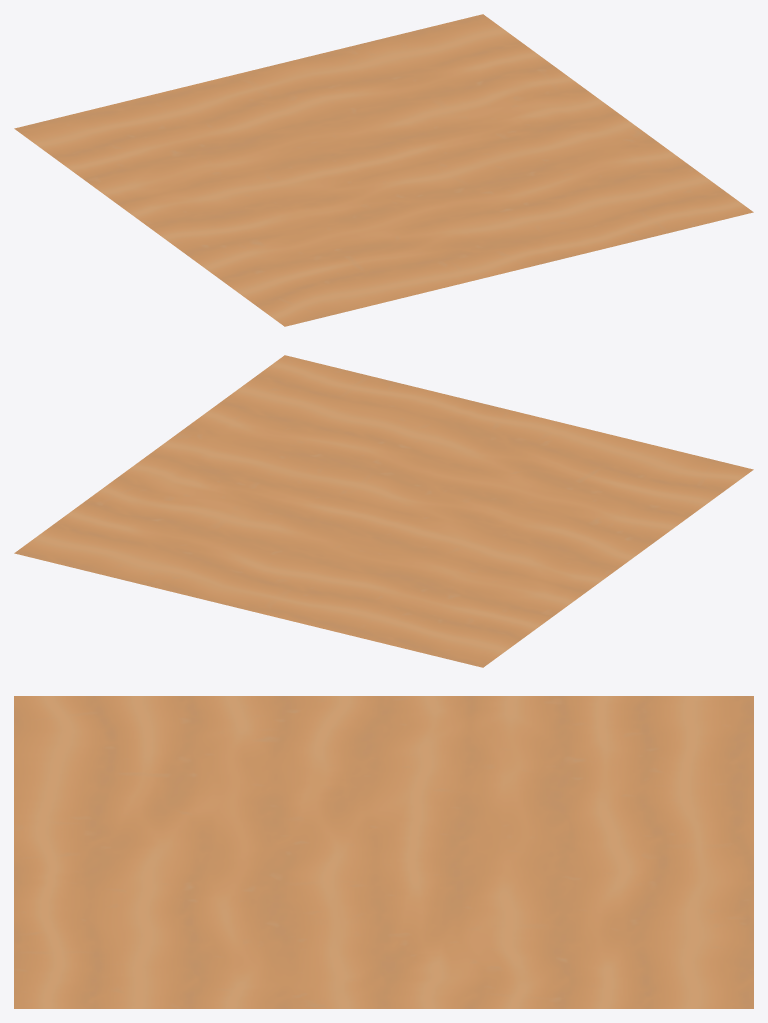
File: Floor.glb
3 renders of one model, top to bottom at view 1: azimuth 30°, elevation 25°; view 2: azimuth 150°, elevation 25°; view 3: azimuth 270°, elevation 25°, orthographic. The views are drawn at different scales.
Parts seen in each view (by area): view 1: FloorWithAlpha; view 2: FloorWithAlpha; view 3: FloorWithAlpha.
Boxes of the visible parts, x1=… form: FloorWithAlpha: x1=14, y1=14, x2=753, y2=326; FloorWithAlpha: x1=14, y1=355, x2=753, y2=667; FloorWithAlpha: x1=14, y1=696, x2=753, y2=1008.
Bounding box in the file's own units: 8.57 × 1.77e-15 × 8.57.
1 material, 1 textured.
